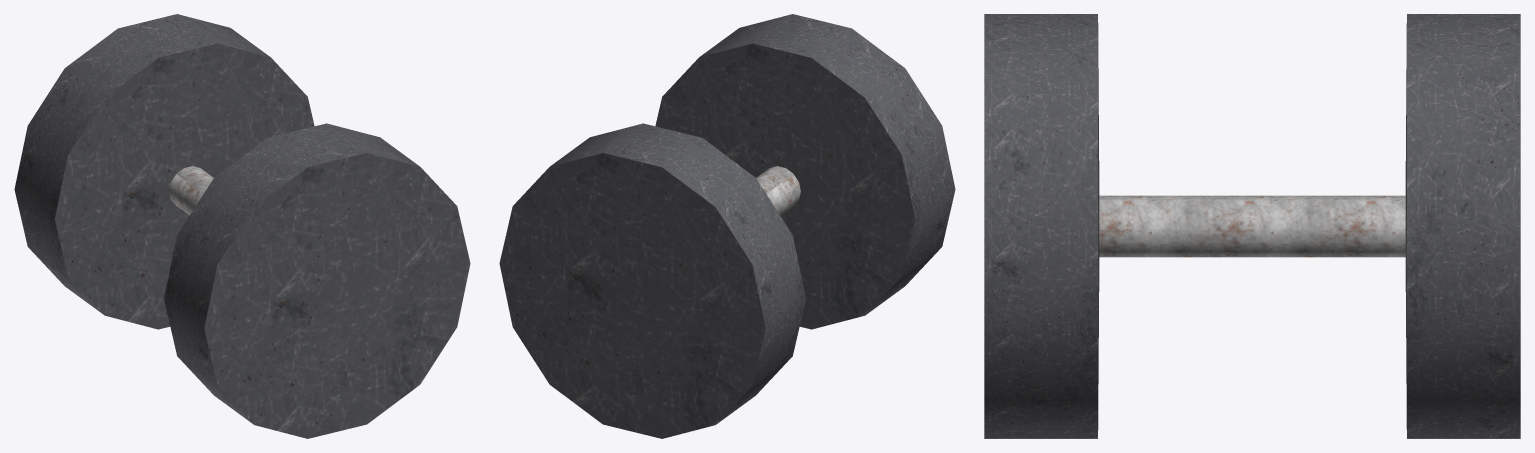
File: dumbbell.fbx
The picture shows the model from 3 angles, left to right: view 1: azimuth 30°, elevation 25°; view 2: azimuth 150°, elevation 25°; view 3: azimuth 270°, elevation 25°; orthographic projection. The views are drawn at different scales.
Parts seen in each view (by area): view 1: dumbbell; view 2: dumbbell; view 3: dumbbell.
Boxes of the visible parts, <box> form: dumbbell: <box>14,14,470,438</box>; dumbbell: <box>499,14,955,438</box>; dumbbell: <box>984,14,1520,438</box>.
Bounding box in the file's own units: 41.87 × 40.82 × 51.69.
Materials: 1 (1 with a texture image).
